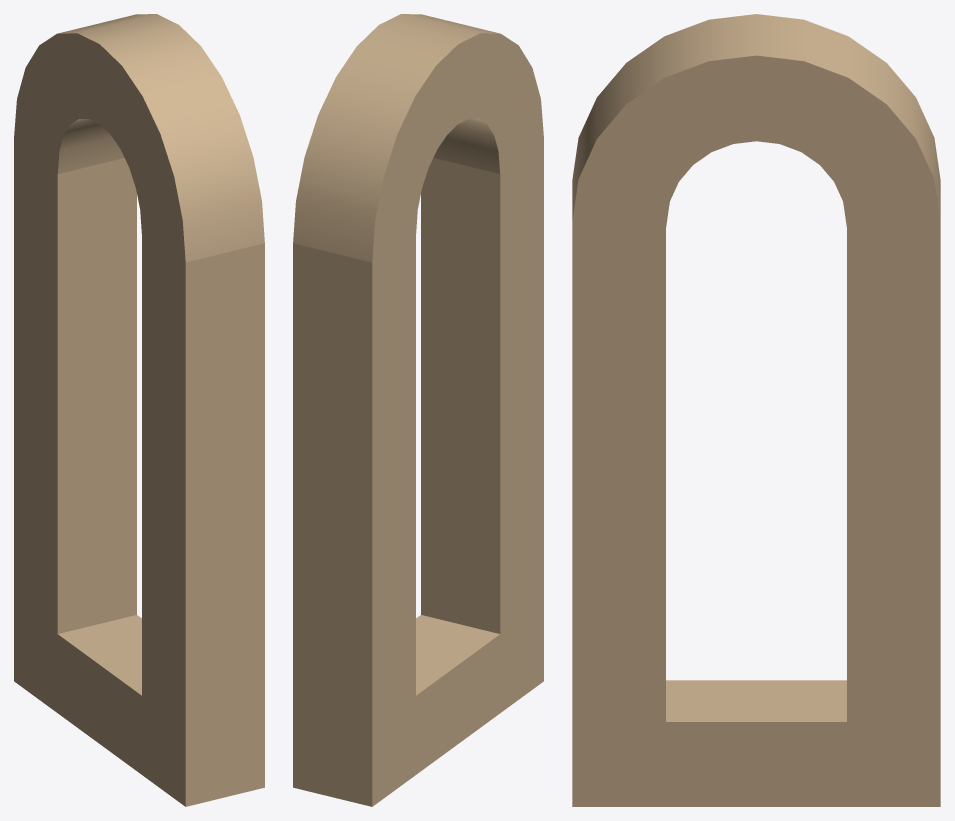
Rendered from detail_021.glb.
3 views of the same model, side by side, from view 1: azimuth 30°, elevation 25°; view 2: azimuth 150°, elevation 25°; view 3: azimuth 270°, elevation 25° (orthographic). The views are drawn at different scales.
Parts seen in each view (by area): view 1: detail_021; view 2: detail_021; view 3: detail_021.
Part boxes in pixels (x1,y1,x2,y2): detail_021: [14, 14, 264, 806]; detail_021: [293, 14, 543, 806]; detail_021: [572, 14, 940, 806].
Bounding box in the file's own units: 0.05 × 0.4219 × 0.1875.
